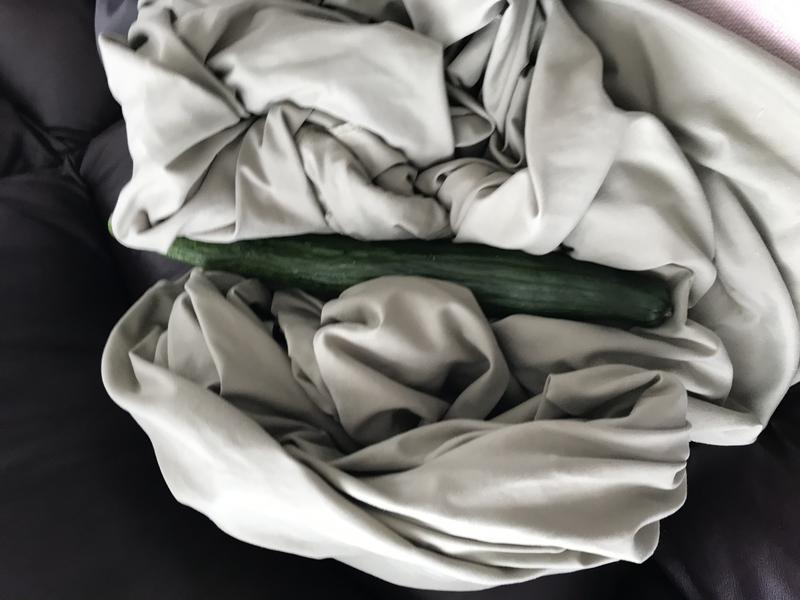cucumber: (139, 200, 695, 348)
